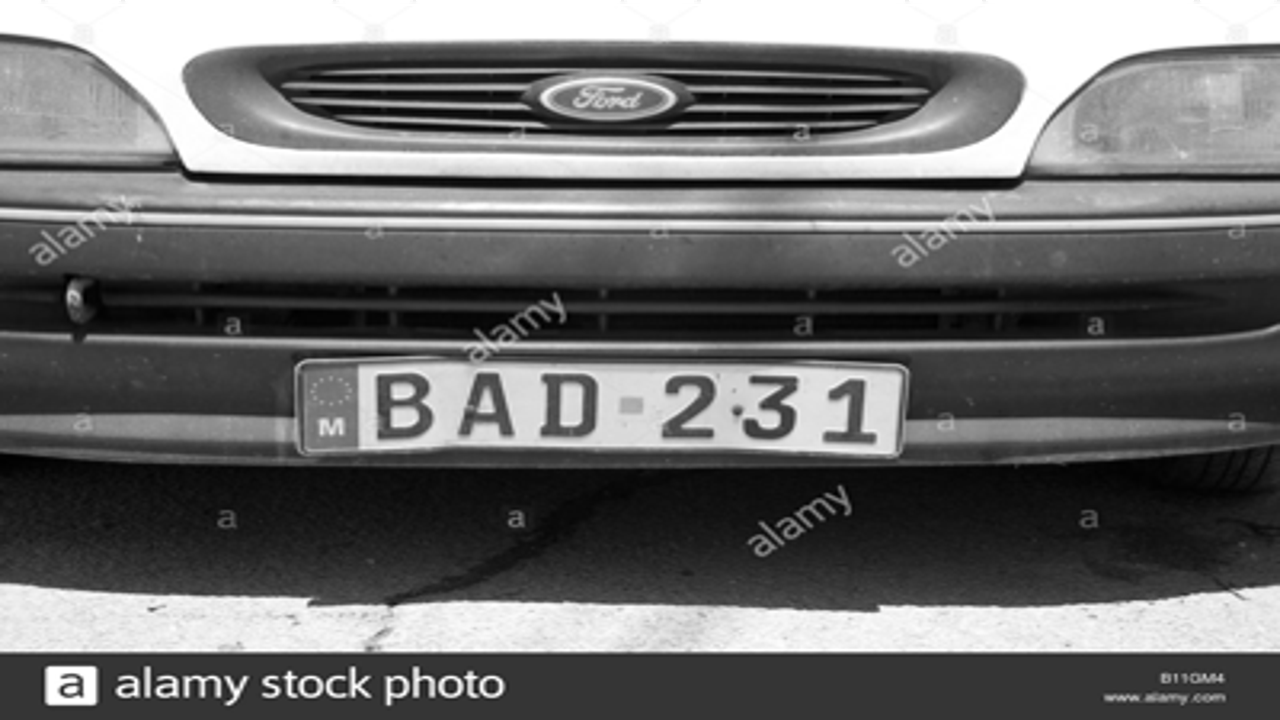license: (286, 350, 913, 466)
